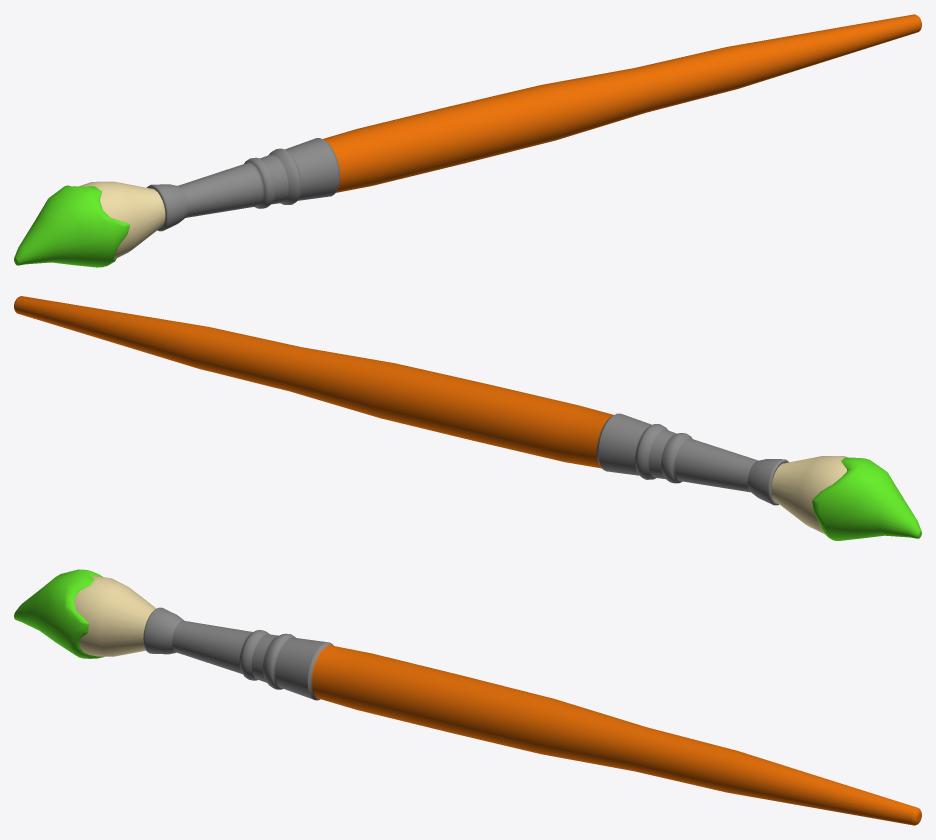
The model's file is mainBrush.fbx.
3 views of the same model, one above another, from view 1: azimuth 30°, elevation 25°; view 2: azimuth 150°, elevation 25°; view 3: azimuth 330°, elevation 25° (orthographic).
Visible parts, largest first — view 1: Circle.011; view 2: Circle.011; view 3: Circle.011.
Boxes of the visible parts, x1,y1,x2,y2 form: Circle.011: (14,14,921,267); Circle.011: (14,296,921,540); Circle.011: (14,569,921,825).
Bounding box in the file's own units: 4.08 × 0.3372 × 0.3476.
